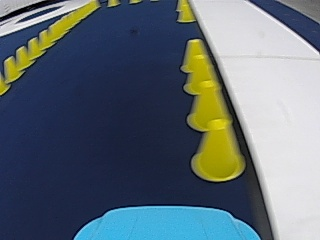cone: (181, 43, 232, 126), (191, 118, 246, 180), (179, 38, 213, 80), (2, 55, 19, 82), (183, 71, 201, 95), (176, 0, 195, 22), (14, 45, 29, 70), (26, 37, 40, 59), (38, 29, 49, 49)
